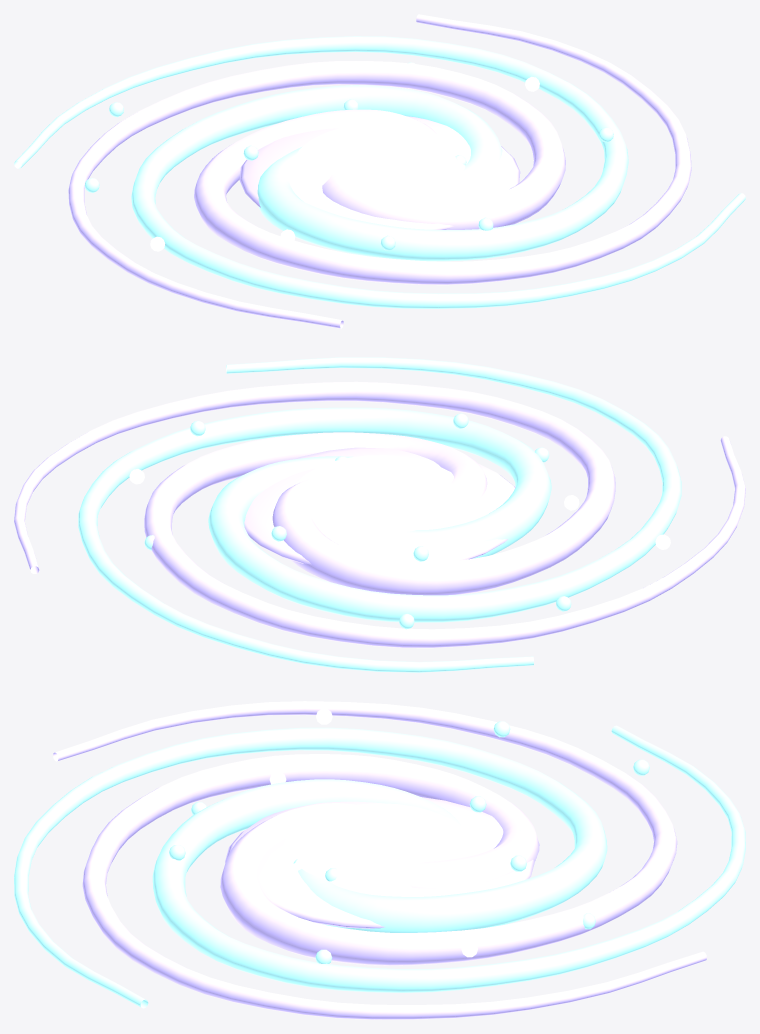
The model's file is galaxy.glb.
3 renders of one model, top to bottom at view 1: azimuth 30°, elevation 25°; view 2: azimuth 150°, elevation 25°; view 3: azimuth 270°, elevation 25°, orthographic. The views are drawn at different scales.
Visible parts, largest first — view 1: galaxy_galaxy_violet, galaxy_galaxy_cyan, galaxy_galaxy_core; view 2: galaxy_galaxy_violet, galaxy_galaxy_cyan, galaxy_galaxy_core; view 3: galaxy_galaxy_violet, galaxy_galaxy_cyan, galaxy_galaxy_core.
Boxes of the visible parts, box(x1,y1,x2,y2) form: galaxy_galaxy_violet: box(68, 14, 691, 328); galaxy_galaxy_cyan: box(14, 36, 745, 308); galaxy_galaxy_core: box(150, 76, 539, 251); galaxy_galaxy_violet: box(14, 381, 745, 648); galaxy_galaxy_cyan: box(78, 357, 681, 672); galaxy_galaxy_core: box(129, 455, 670, 549); galaxy_galaxy_violet: box(53, 701, 706, 1019); galaxy_galaxy_cyan: box(14, 721, 745, 1008); galaxy_galaxy_core: box(269, 708, 477, 957).
Size of the model in its own units: 6.05 by 0.5816 by 6.05.
